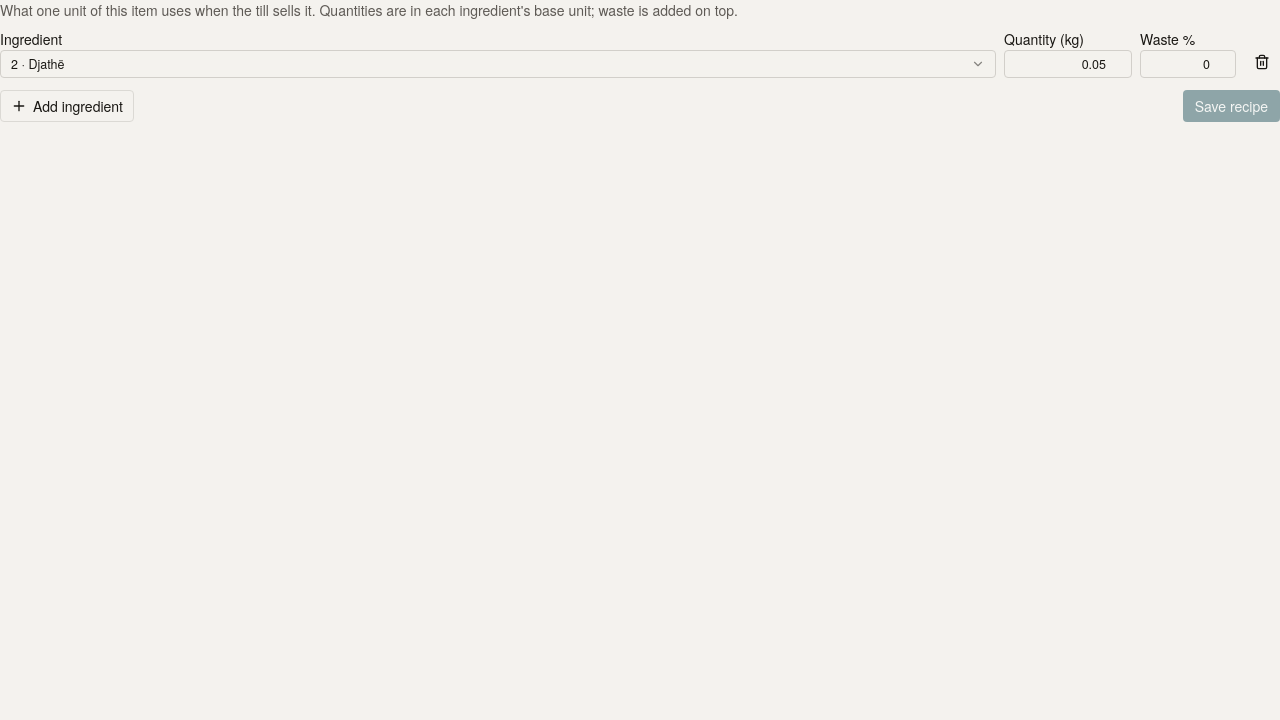
Test: Item recipe (P3) › saves the ingredient lines with quantity and waste
Expected: the number field labelled "Quantity (kg)" is shown, [1004,50,1132,78]
Click the button "Add ingredient" at (67, 106), box [0,90,134,122]
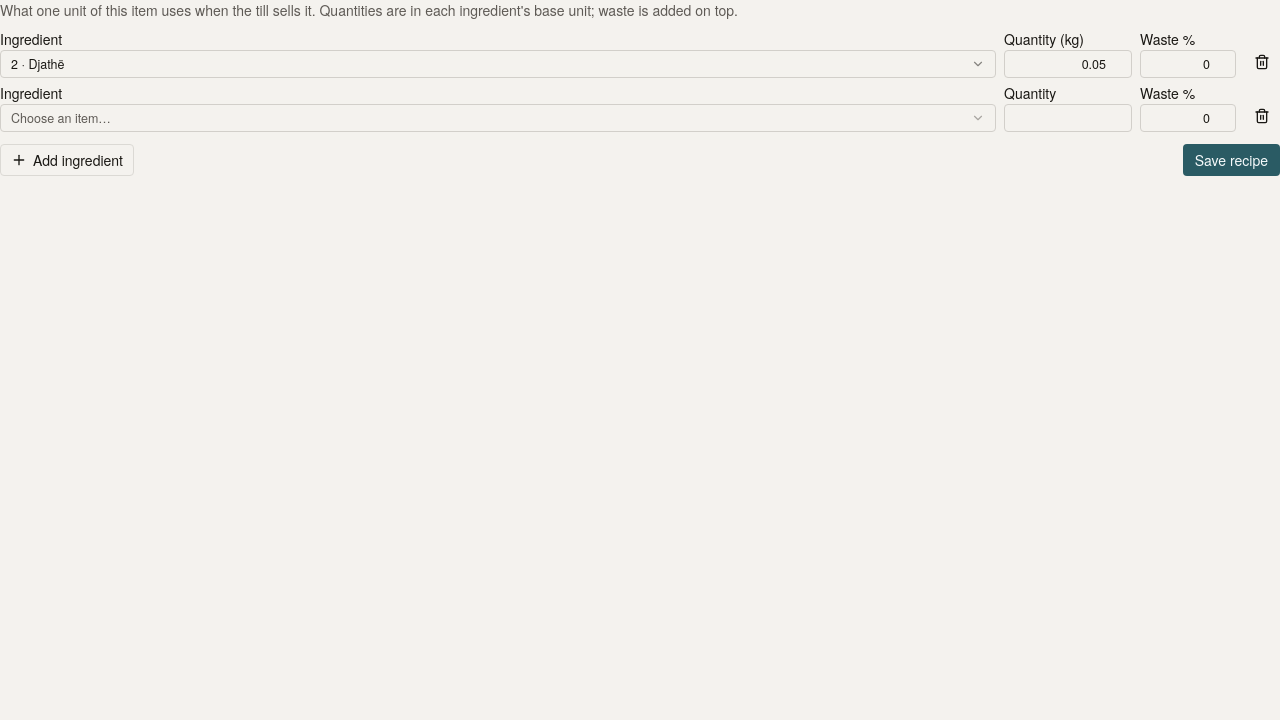
Click the dropdown named "Ingredient" at (61, 118), box [0,104,996,132]
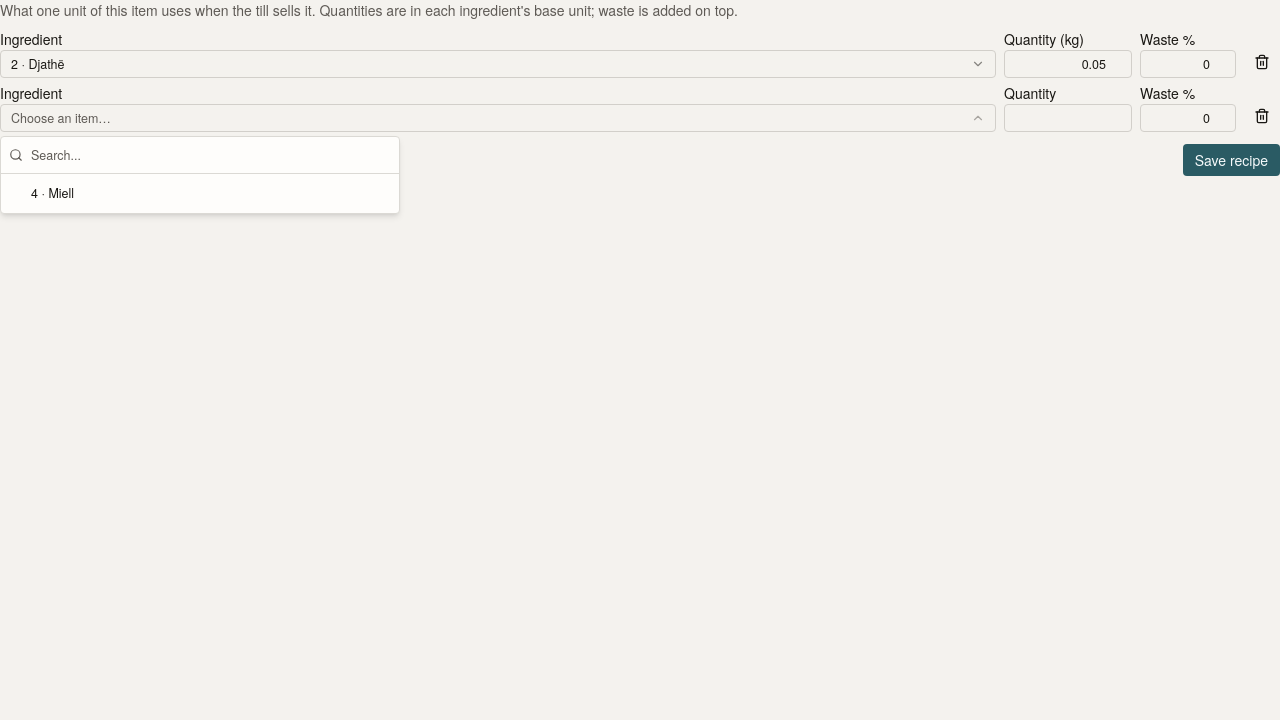
Press the mouse on the option "4 · Miell" at (53, 193), box [1,178,399,209]
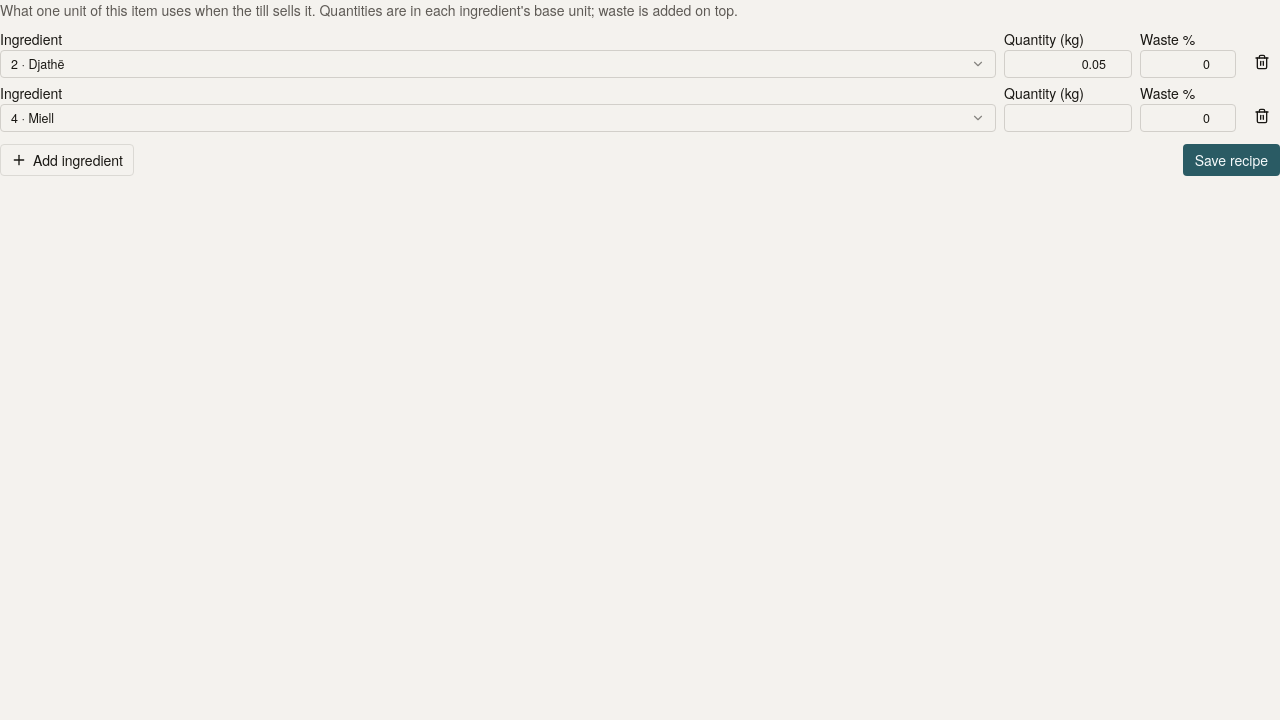
Expected: the number of number fields labelled "Quantity (kg)" is 2
Type "0.2" into the 2nd number field labelled "Quantity (kg)" at (1068, 118), box [1004,104,1132,132]
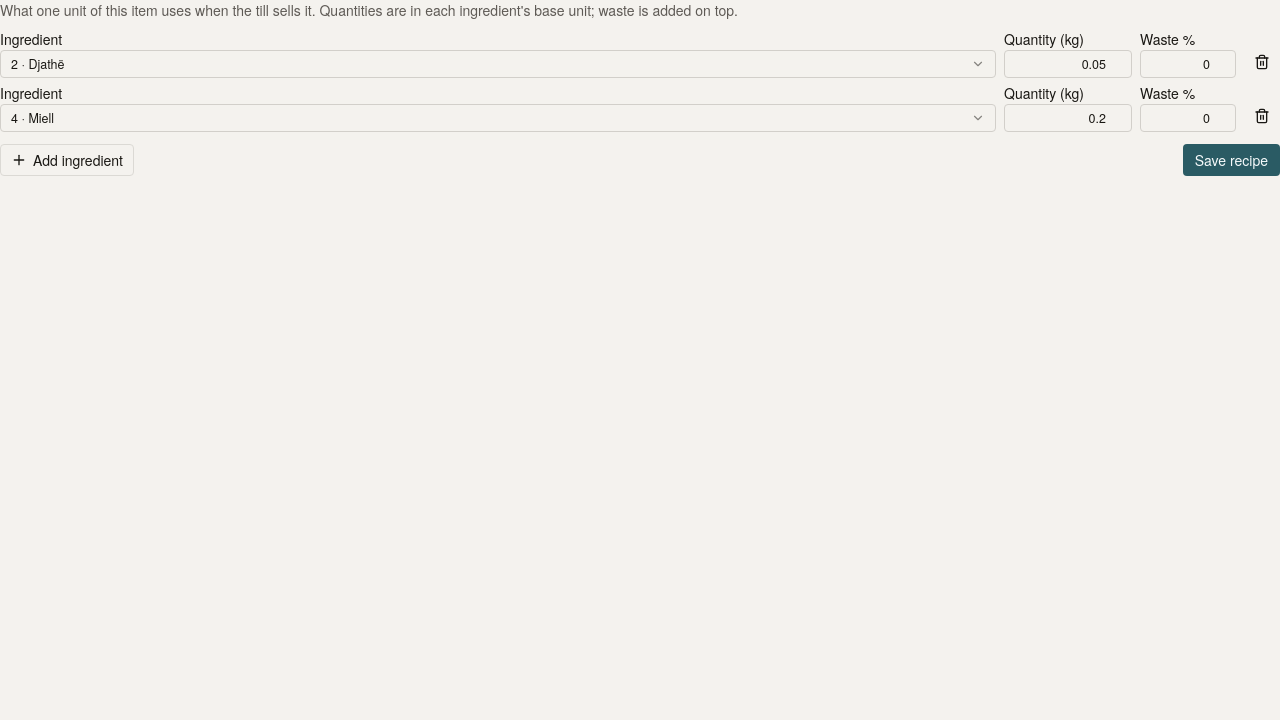
Replace the text in the 2nd number field labelled "Waste %" with "5" at (1188, 118), box [1140,104,1236,132]
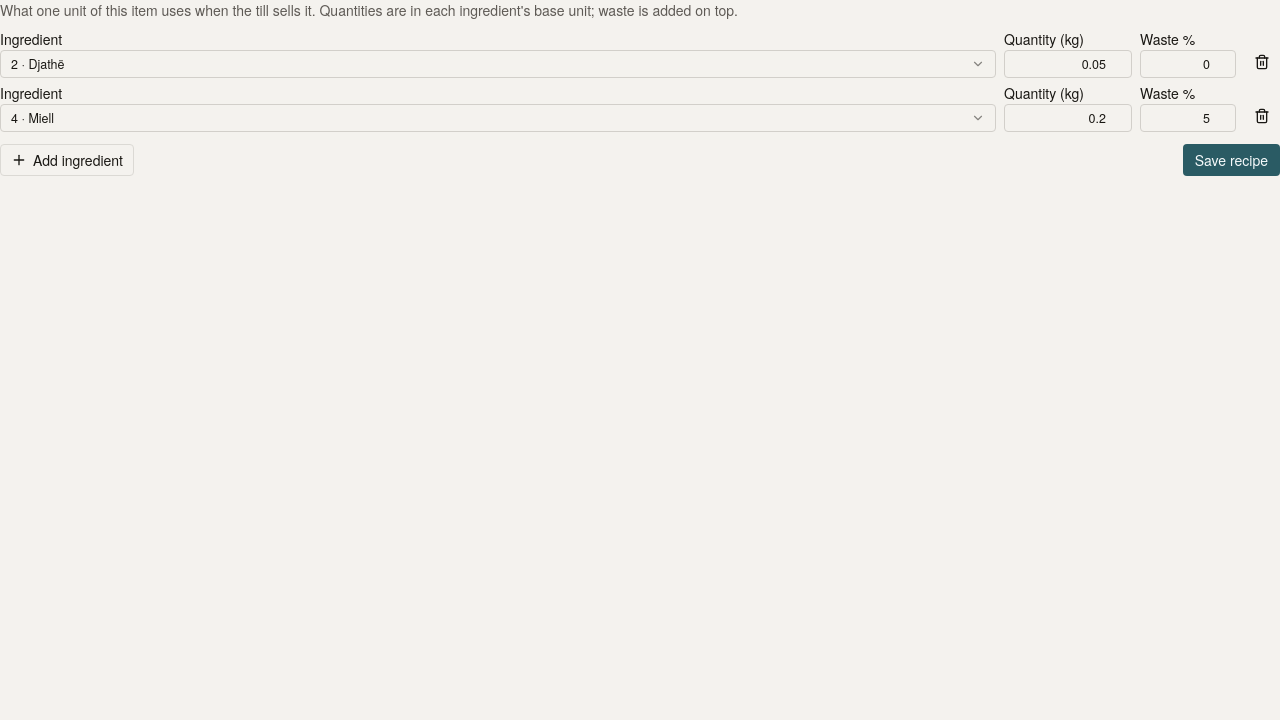
Click the button "Save recipe" at (1231, 160), box [1183,144,1279,176]
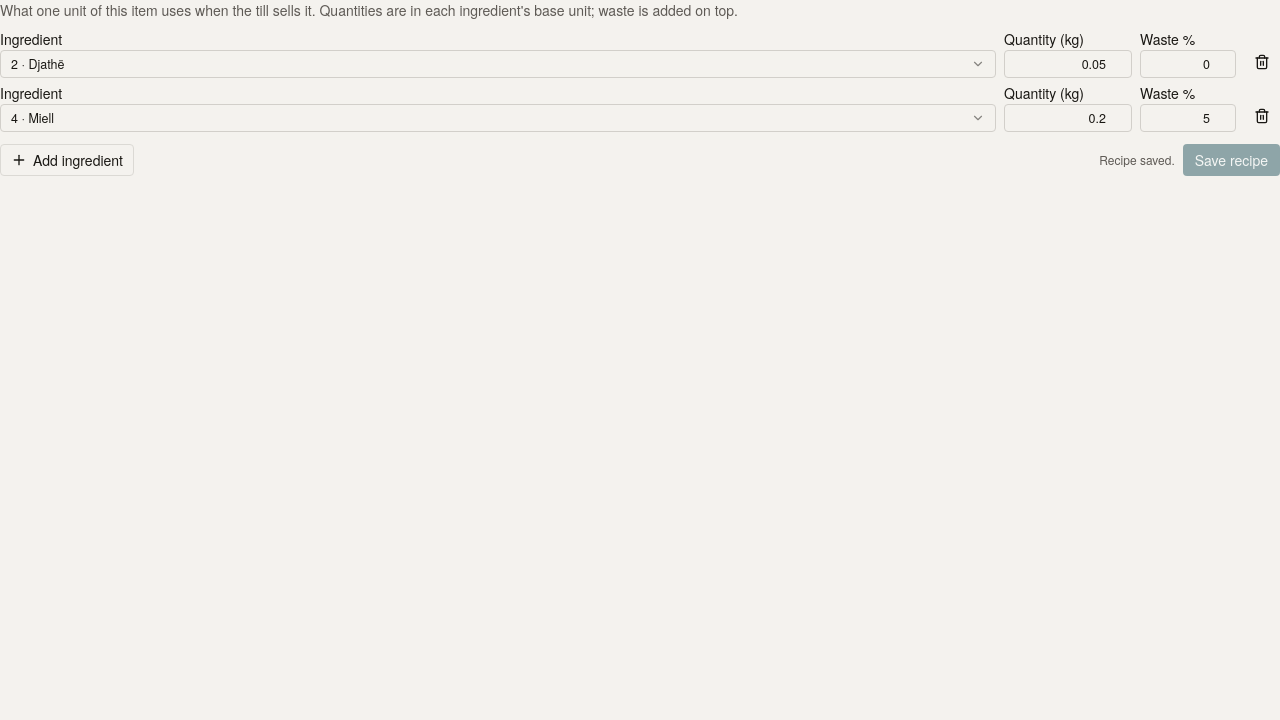
Expected: the text "Recipe saved." is shown, [1099,152,1175,168]
